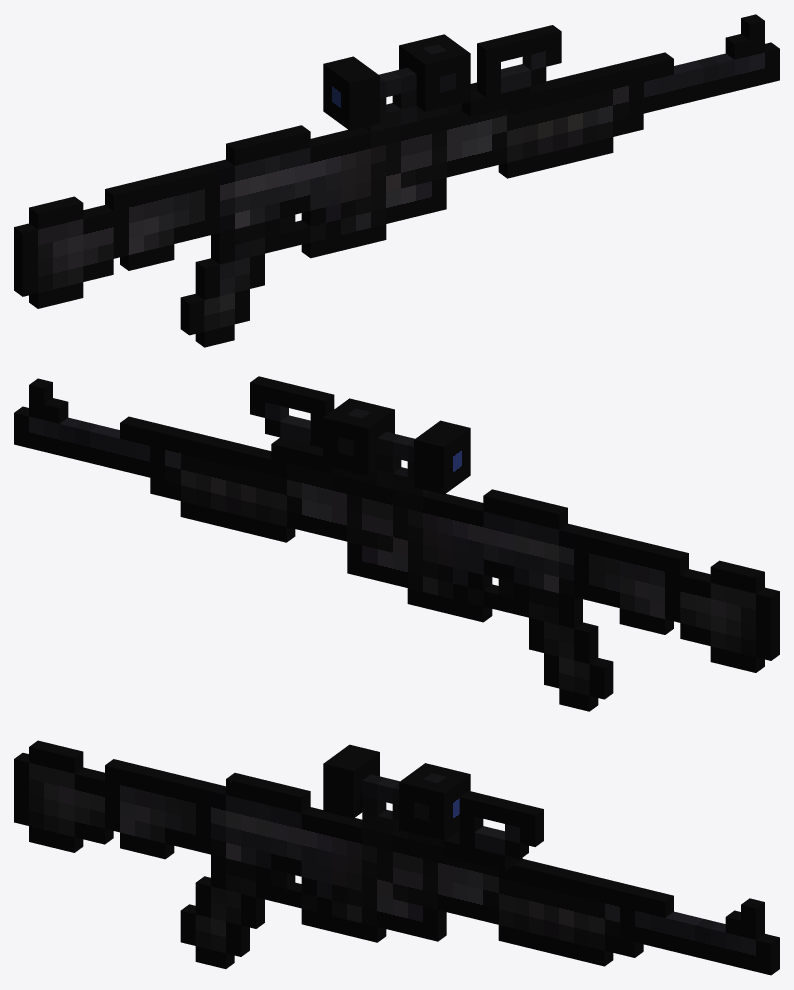
File: BERSERK.glb
The picture shows the model from 3 angles, top to bottom: view 1: azimuth 30°, elevation 25°; view 2: azimuth 150°, elevation 25°; view 3: azimuth 330°, elevation 25°; orthographic projection.
Parts seen in each view (by area): view 1: BERSERK; view 2: BERSERK; view 3: BERSERK.
Boxes of the visible parts, x1=… form: BERSERK: x1=14, y1=14, x2=779, y2=347; BERSERK: x1=14, y1=376, x2=779, y2=711; BERSERK: x1=14, y1=740, x2=779, y2=975.
Size of the model in its own units: 1.57 by 0.4725 by 0.0946.
Materials: 1 (1 with a texture image).
